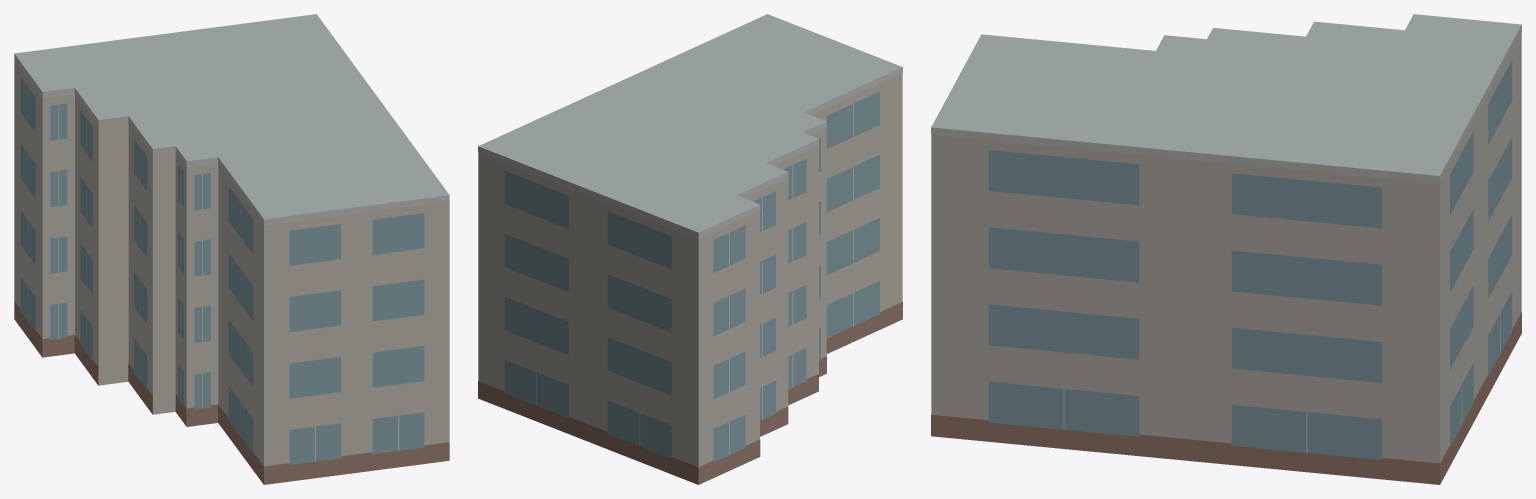
The model's file is survey-upis-32906101.glb.
3 renders of one model, left to right at view 1: azimuth 30°, elevation 25°; view 2: azimuth 150°, elevation 25°; view 3: azimuth 270°, elevation 25°, orthographic. The views are drawn at different scales.
Visible parts, largest first — view 1: survey-upis-32906101.tmp; view 2: survey-upis-32906101.tmp; view 3: survey-upis-32906101.tmp.
Boxes of the visible parts, x1,y1,x2,y2 form: survey-upis-32906101.tmp: [14, 14, 449, 484]; survey-upis-32906101.tmp: [478, 14, 902, 484]; survey-upis-32906101.tmp: [931, 14, 1521, 484].
Size of the model in its own units: 11.49 by 10.2 by 17.69.
